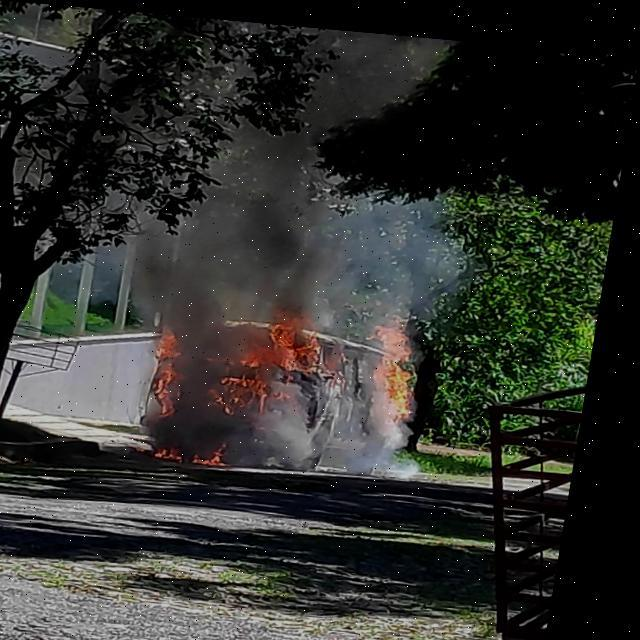Fire: (222, 304, 352, 416), (367, 314, 444, 406), (160, 324, 200, 416), (205, 438, 245, 462), (168, 440, 202, 456)
